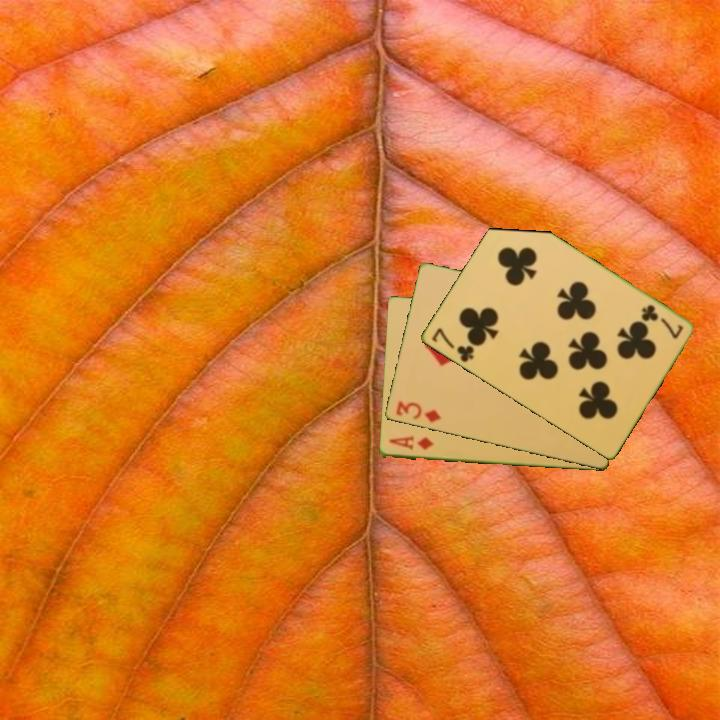3d: (392, 398, 444, 426)
7c: (428, 324, 477, 365), (637, 301, 686, 342)
Ad: (386, 433, 436, 453)
